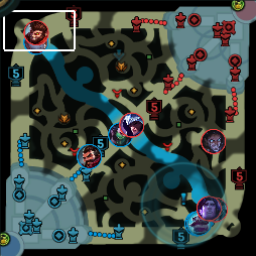akali: (108, 123, 132, 146)
braum: (185, 210, 211, 234)
graves: (77, 144, 102, 167)
monkeyking: (21, 18, 48, 44)
poppy: (23, 33, 46, 55)
sylas: (200, 129, 225, 154)
talon: (119, 112, 144, 136)
taric: (195, 194, 219, 219)
